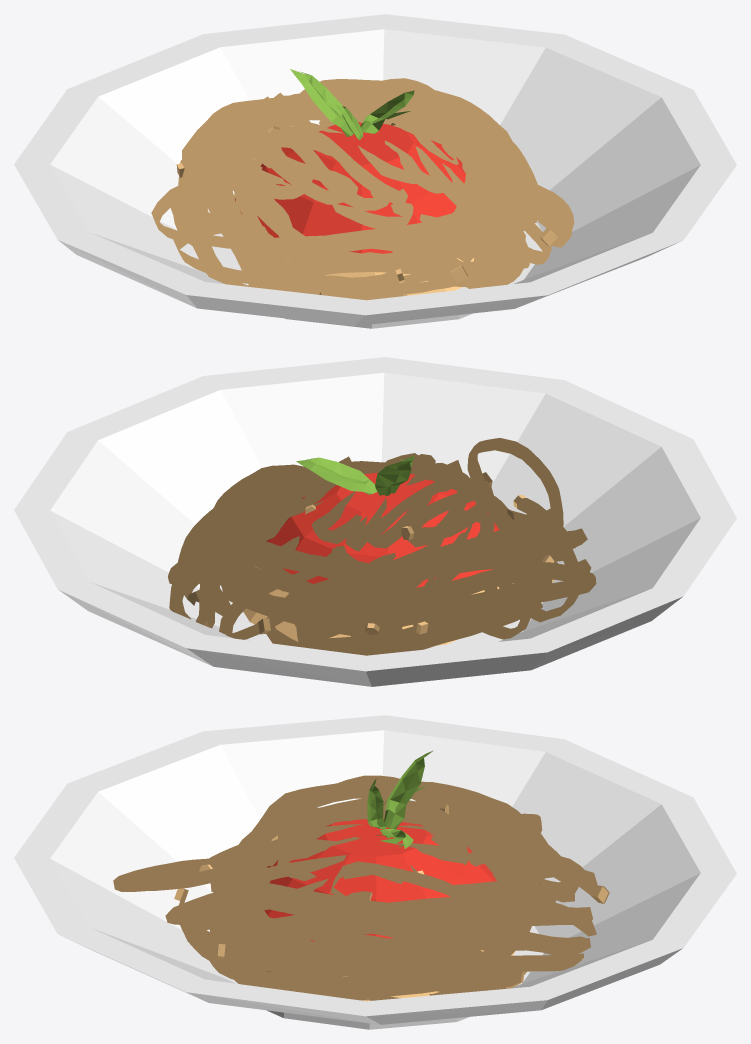
File: Spaghetti Bowl.glb
3 renders of one model, top to bottom at view 1: azimuth 30°, elevation 25°; view 2: azimuth 150°, elevation 25°; view 3: azimuth 270°, elevation 25°, orthographic.
Parts seen in each view (by area): view 1: Node; view 2: Node; view 3: Node.
Part boxes in pixels (x1,y1,x2,y2): Node: (14,14,736,328); Node: (14,357,736,686); Node: (14,715,736,1029).
Size of the model in its own units: 0.4998 by 0.1388 by 0.4998.
